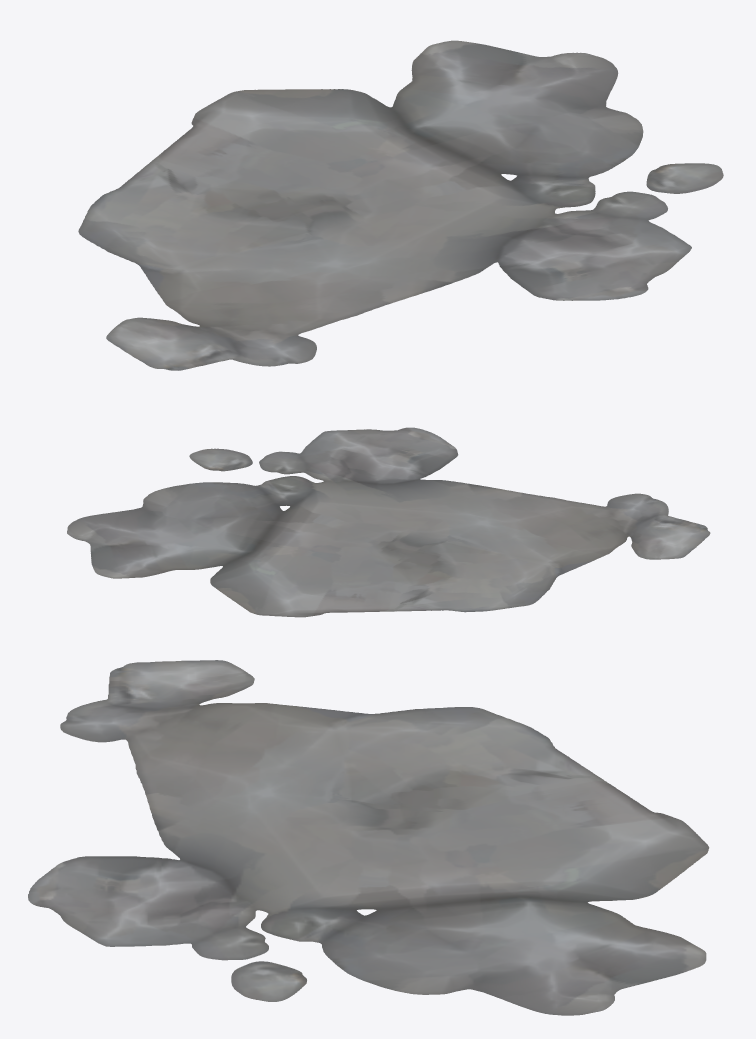
Rendered from SM_PebblesGroup_02.fbx.
3 renders of one model, top to bottom at view 1: azimuth 30°, elevation 25°; view 2: azimuth 150°, elevation 25°; view 3: azimuth 270°, elevation 25°, orthographic. The views are drawn at different scales.
Visible parts, largest first — view 1: SM_PebblesGroup_02_LOD1; view 2: SM_PebblesGroup_02_LOD1; view 3: SM_PebblesGroup_02_LOD1.
Part boxes in pixels (x1,y1,x2,y2): SM_PebblesGroup_02_LOD1: [78, 40, 723, 370]; SM_PebblesGroup_02_LOD1: [67, 427, 710, 617]; SM_PebblesGroup_02_LOD1: [28, 660, 709, 1015].
Size of the model in its own units: 118 by 0 by 97.51.
